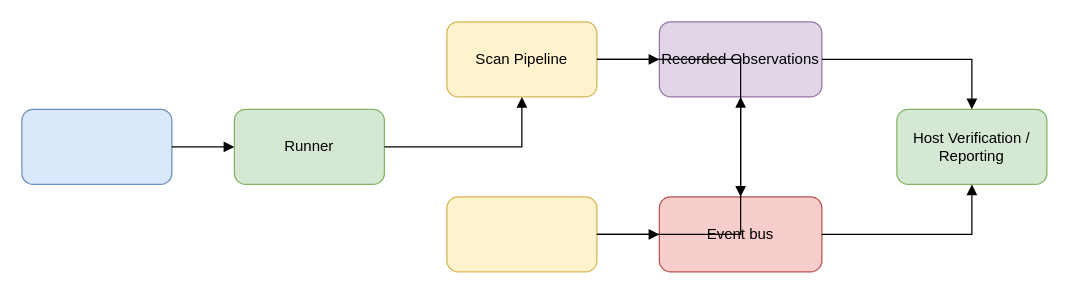
This 1069x294 diagram has some shape labels left out. Each missing label, with the centre of its shape:
"CLI / Library" belongs at point (96, 146).
"Host-owned Plugin Context (Preview)" belongs at point (521, 234).
